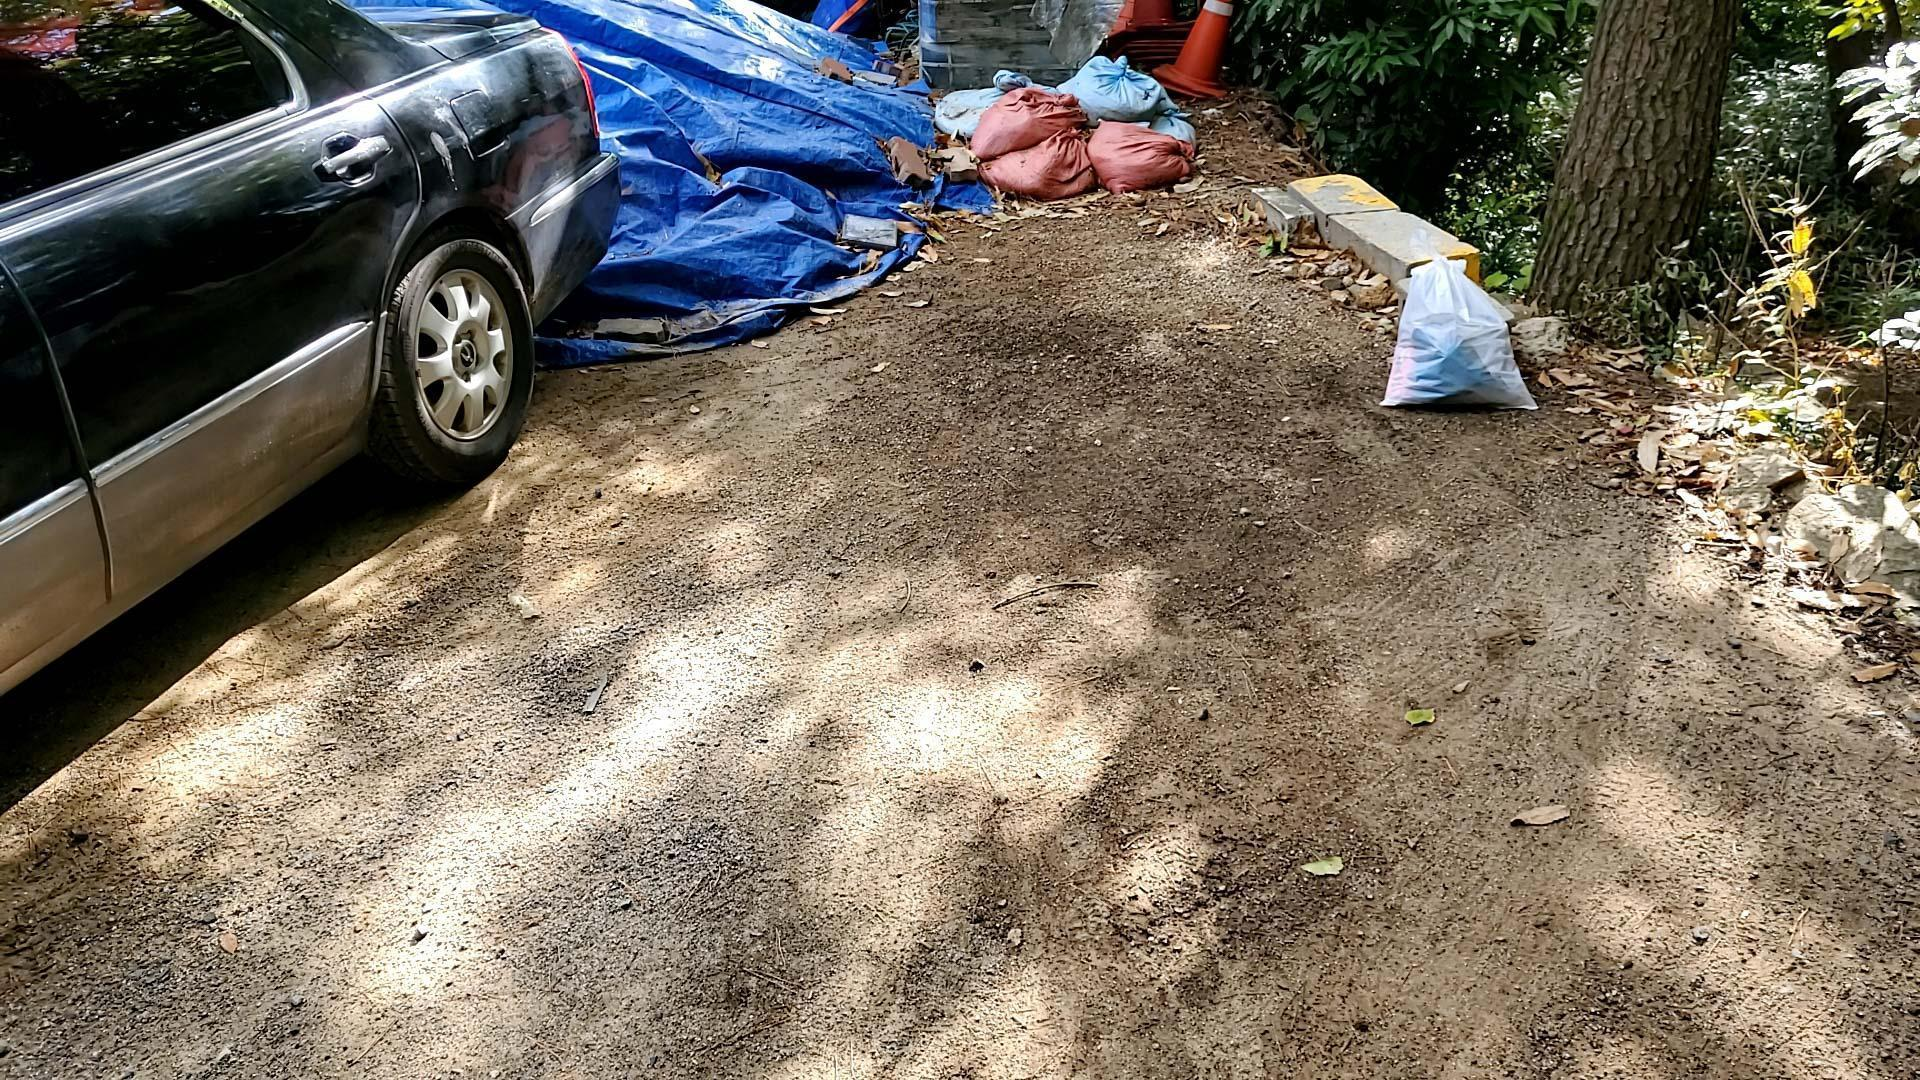white_bag: (1368, 227, 1544, 421)
